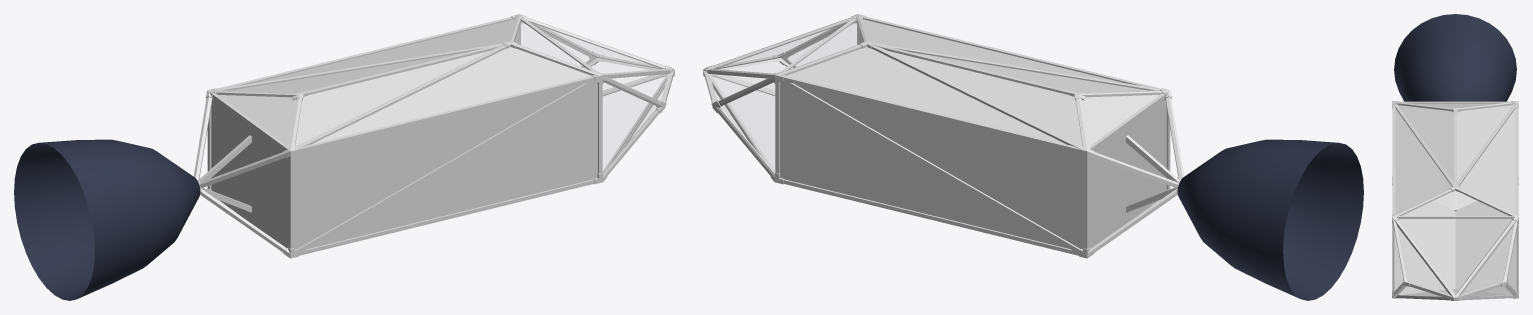
File: scifi_rocket.glb
The picture shows the model from 3 angles, left to right: view 1: azimuth 30°, elevation 25°; view 2: azimuth 150°, elevation 25°; view 3: azimuth 270°, elevation 25°; orthographic projection. The views are drawn at different scales.
Parts seen in each view (by area): view 1: scifi_rocket_panels, nozzle, scifi_rocket; view 2: scifi_rocket_panels, nozzle, scifi_rocket; view 3: scifi_rocket_panels, nozzle, scifi_rocket.
Boxes of the visible parts, box(x1,y1,x2,y2) form: scifi_rocket_panels: box(211, 19, 667, 249); nozzle: box(14, 139, 200, 300); scifi_rocket: box(193, 14, 674, 258); scifi_rocket_panels: box(710, 19, 1166, 249); nozzle: box(1177, 139, 1363, 300); scifi_rocket: box(703, 14, 1184, 258); scifi_rocket_panels: box(1394, 103, 1516, 296); nozzle: box(1394, 14, 1516, 101); scifi_rocket: box(1392, 101, 1518, 300).
Bounding box in the file's own units: 8.83 × 2 × 2.06.
